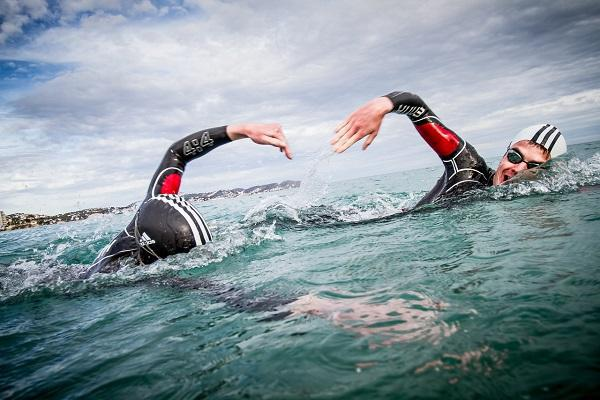swimmer: (83, 107, 298, 297), (326, 77, 589, 229)
